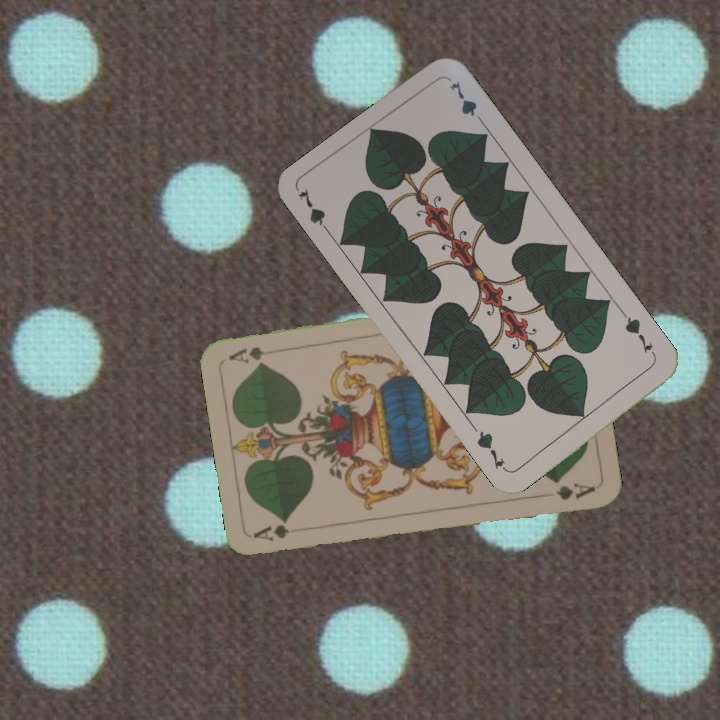G7: (294, 185, 335, 240), (619, 309, 659, 361)
GA: (250, 520, 292, 544)
